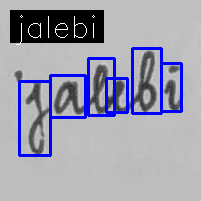a: (52, 78, 83, 116)
b: (136, 48, 159, 114)
e: (110, 77, 131, 116)
i: (162, 63, 185, 113)
j: (21, 78, 49, 157)
l: (89, 62, 109, 115)
